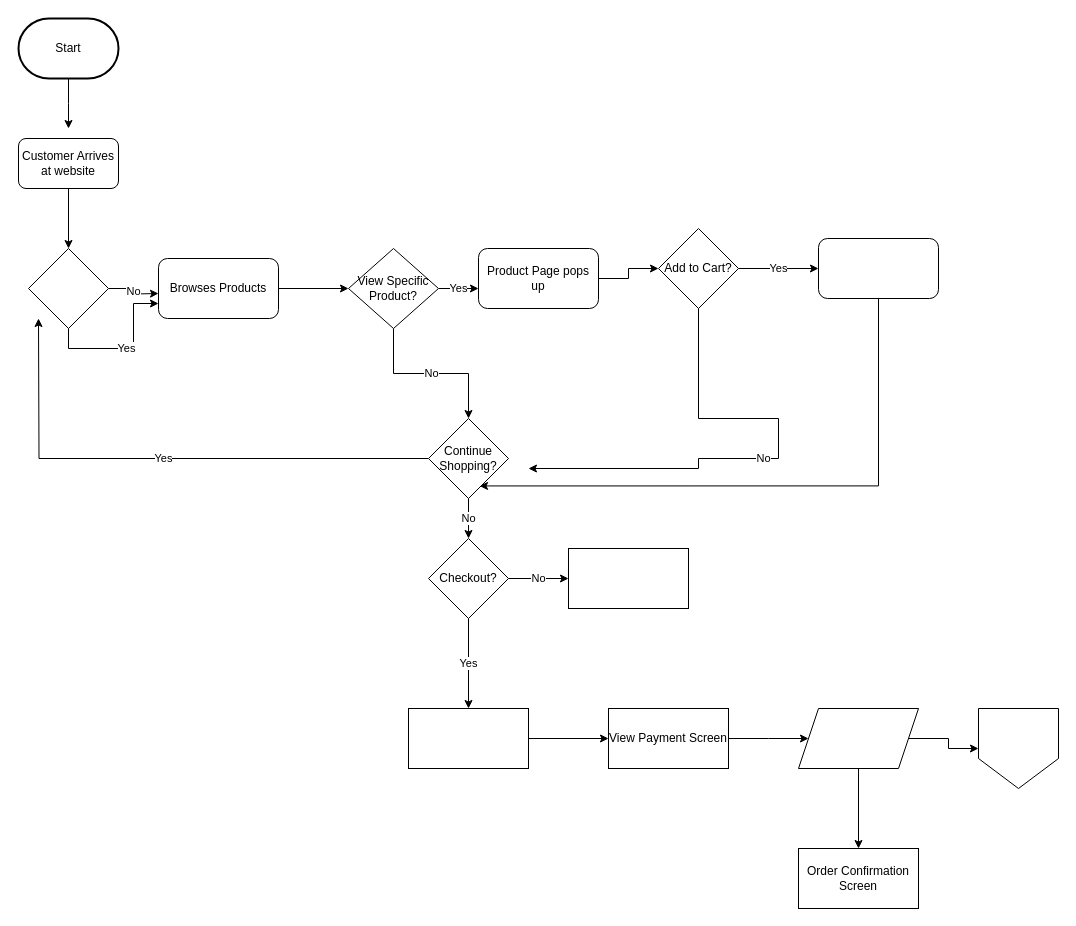
Some shapes in this 1076 by 926 pixel diagram are drawn without their labels. Each missing label, with the centre of its shape:
Cart Screen: (468,738)
Insert Payment: (858,738)
Leave website: (628,578)
Product Added to Cart Confirmation: (878,268)
Use Search function: (68,288)
